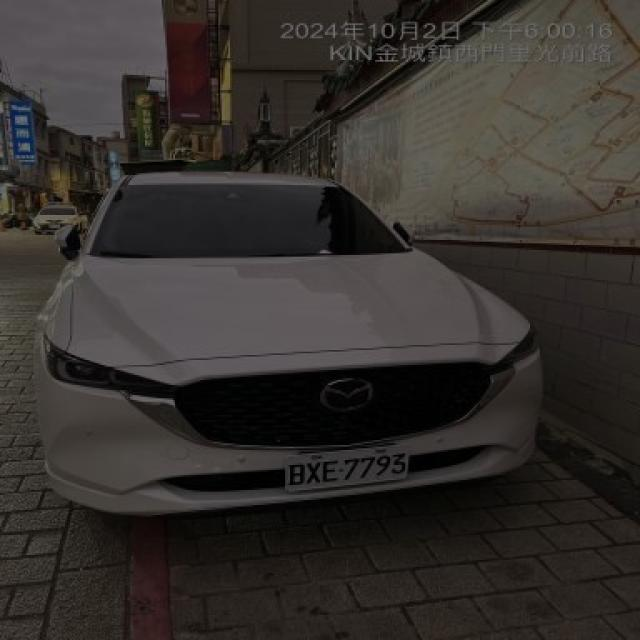illegalparking: (58, 116, 595, 566)
